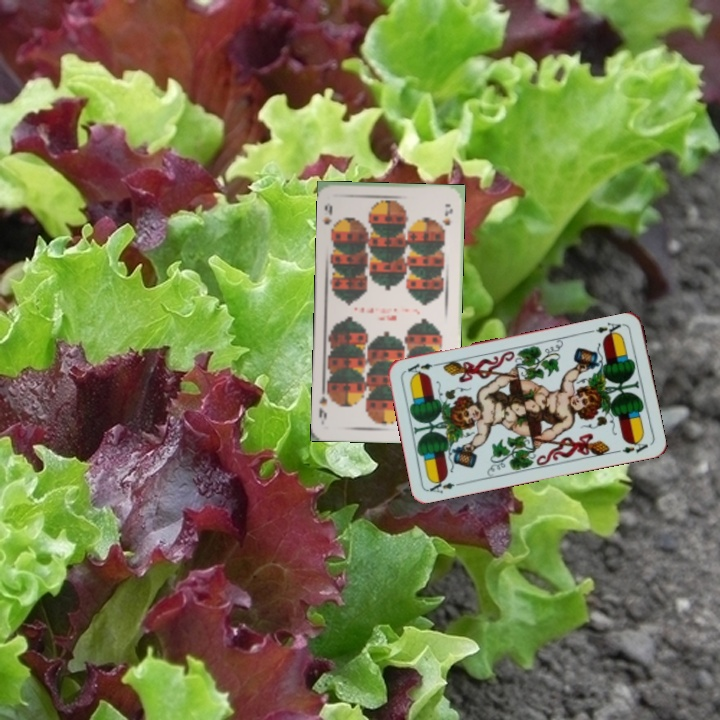EA: (592, 318, 626, 340), (425, 475, 457, 496)
S9: (319, 201, 339, 236)
